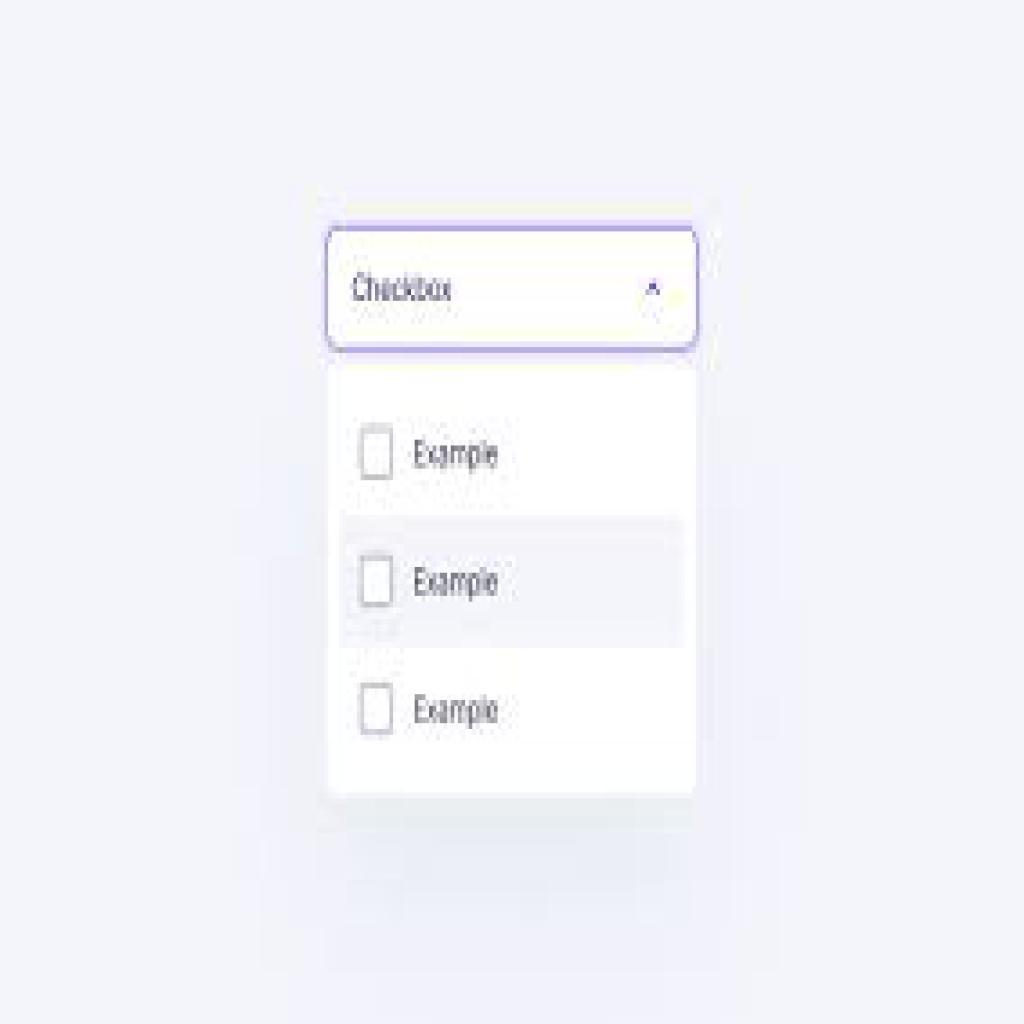checkbox: (360, 426, 395, 480), (360, 555, 395, 607), (362, 683, 394, 734)
dropdown: (325, 224, 703, 353)
label: (408, 688, 510, 736), (414, 431, 509, 476), (410, 560, 507, 602)
